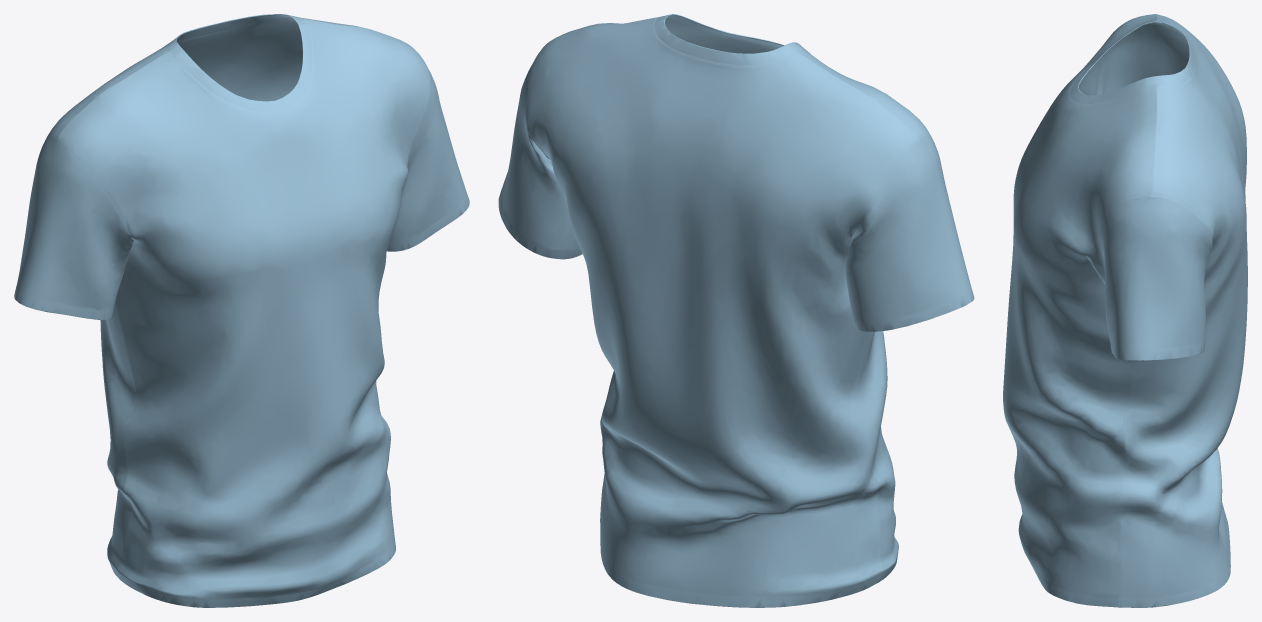
The model's file is blue.glb.
The picture shows the model from 3 angles, left to right: view 1: azimuth 30°, elevation 25°; view 2: azimuth 150°, elevation 25°; view 3: azimuth 270°, elevation 25°; orthographic projection. The views are drawn at different scales.
Parts seen in each view (by area): view 1: T_Shirt_male; view 2: T_Shirt_male; view 3: T_Shirt_male.
Part boxes in pixels (<box>): T_Shirt_male: <box>14,14,469,607</box>; T_Shirt_male: <box>498,14,974,607</box>; T_Shirt_male: <box>1003,14,1247,607</box>.
Bounding box in the file's own units: 3.3 × 3.68 × 1.61.
